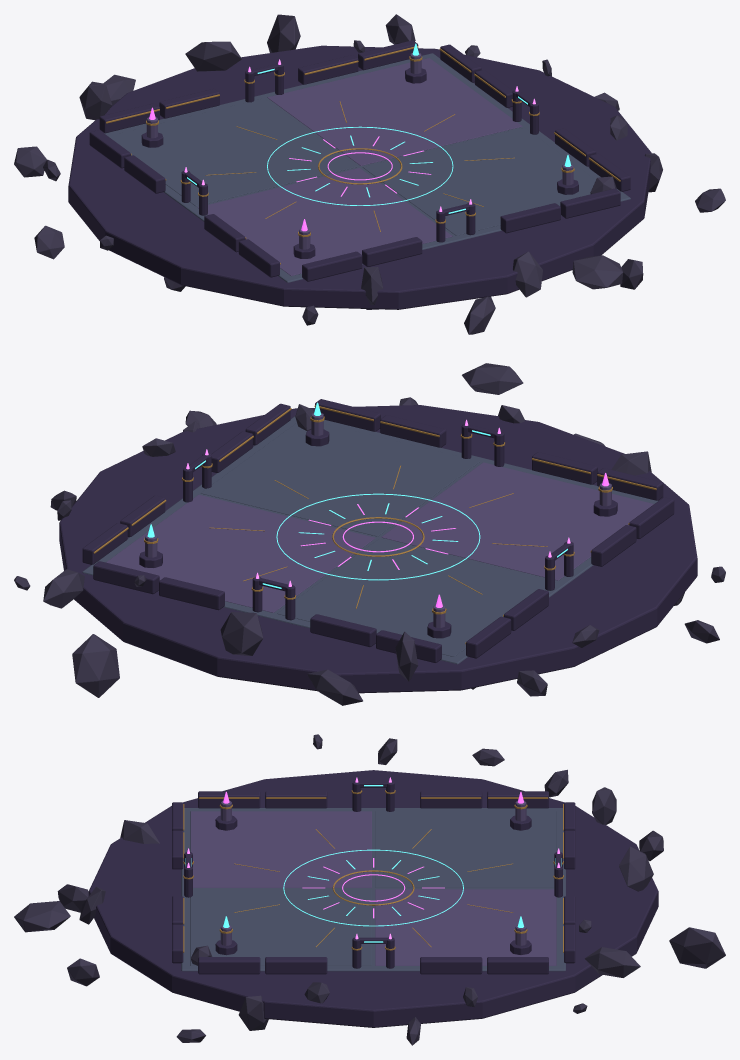
Rendered from aegis_rift_arena_v1.glb.
3 renders of one model, top to bottom at view 1: azimuth 30°, elevation 25°; view 2: azimuth 150°, elevation 25°; view 3: azimuth 270°, elevation 25°, orthographic. The views are drawn at different scales.
Visible parts, largest first — view 1: Aegis_Rift_Arena; view 2: Aegis_Rift_Arena; view 3: Aegis_Rift_Arena.
Part boxes in pixels (x1,y1,x2,y2): Aegis_Rift_Arena: (14, 14, 725, 334); Aegis_Rift_Arena: (14, 363, 725, 705); Aegis_Rift_Arena: (14, 734, 725, 1045).
Bounding box in the file's own units: 69.83 × 8.88 × 74.45.
